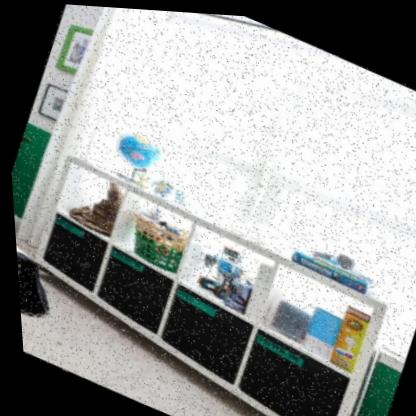Shelf: (7, 142, 414, 416)
